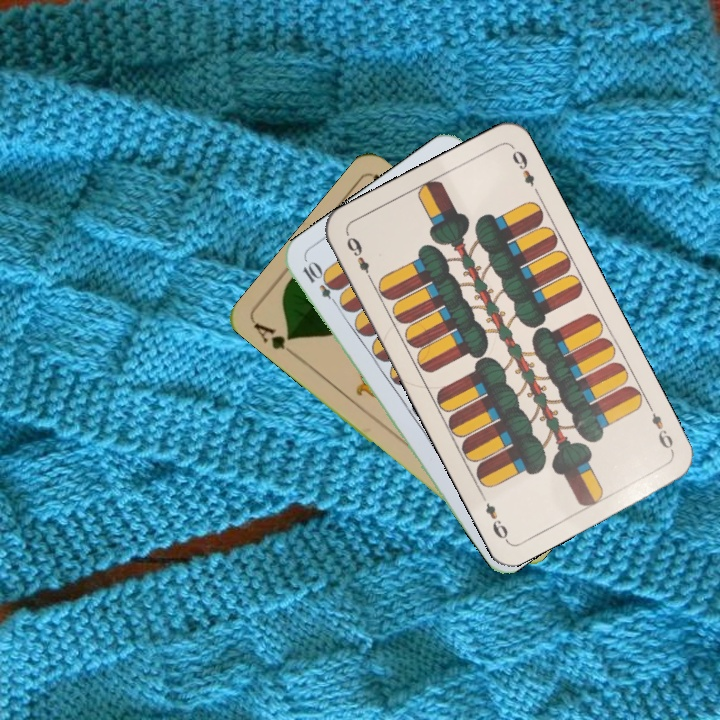E10: (298, 258, 344, 310)
E9: (644, 400, 677, 456), (342, 232, 376, 285)
GA: (249, 319, 301, 361)
